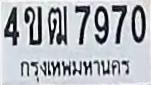0: (130, 4, 146, 43)
4: (3, 5, 19, 46)
7: (74, 5, 91, 44), (111, 4, 127, 44)
9: (94, 5, 109, 45)
A02: (23, 5, 42, 45)
A18: (47, 6, 68, 45)
BKK: (18, 55, 132, 85)
